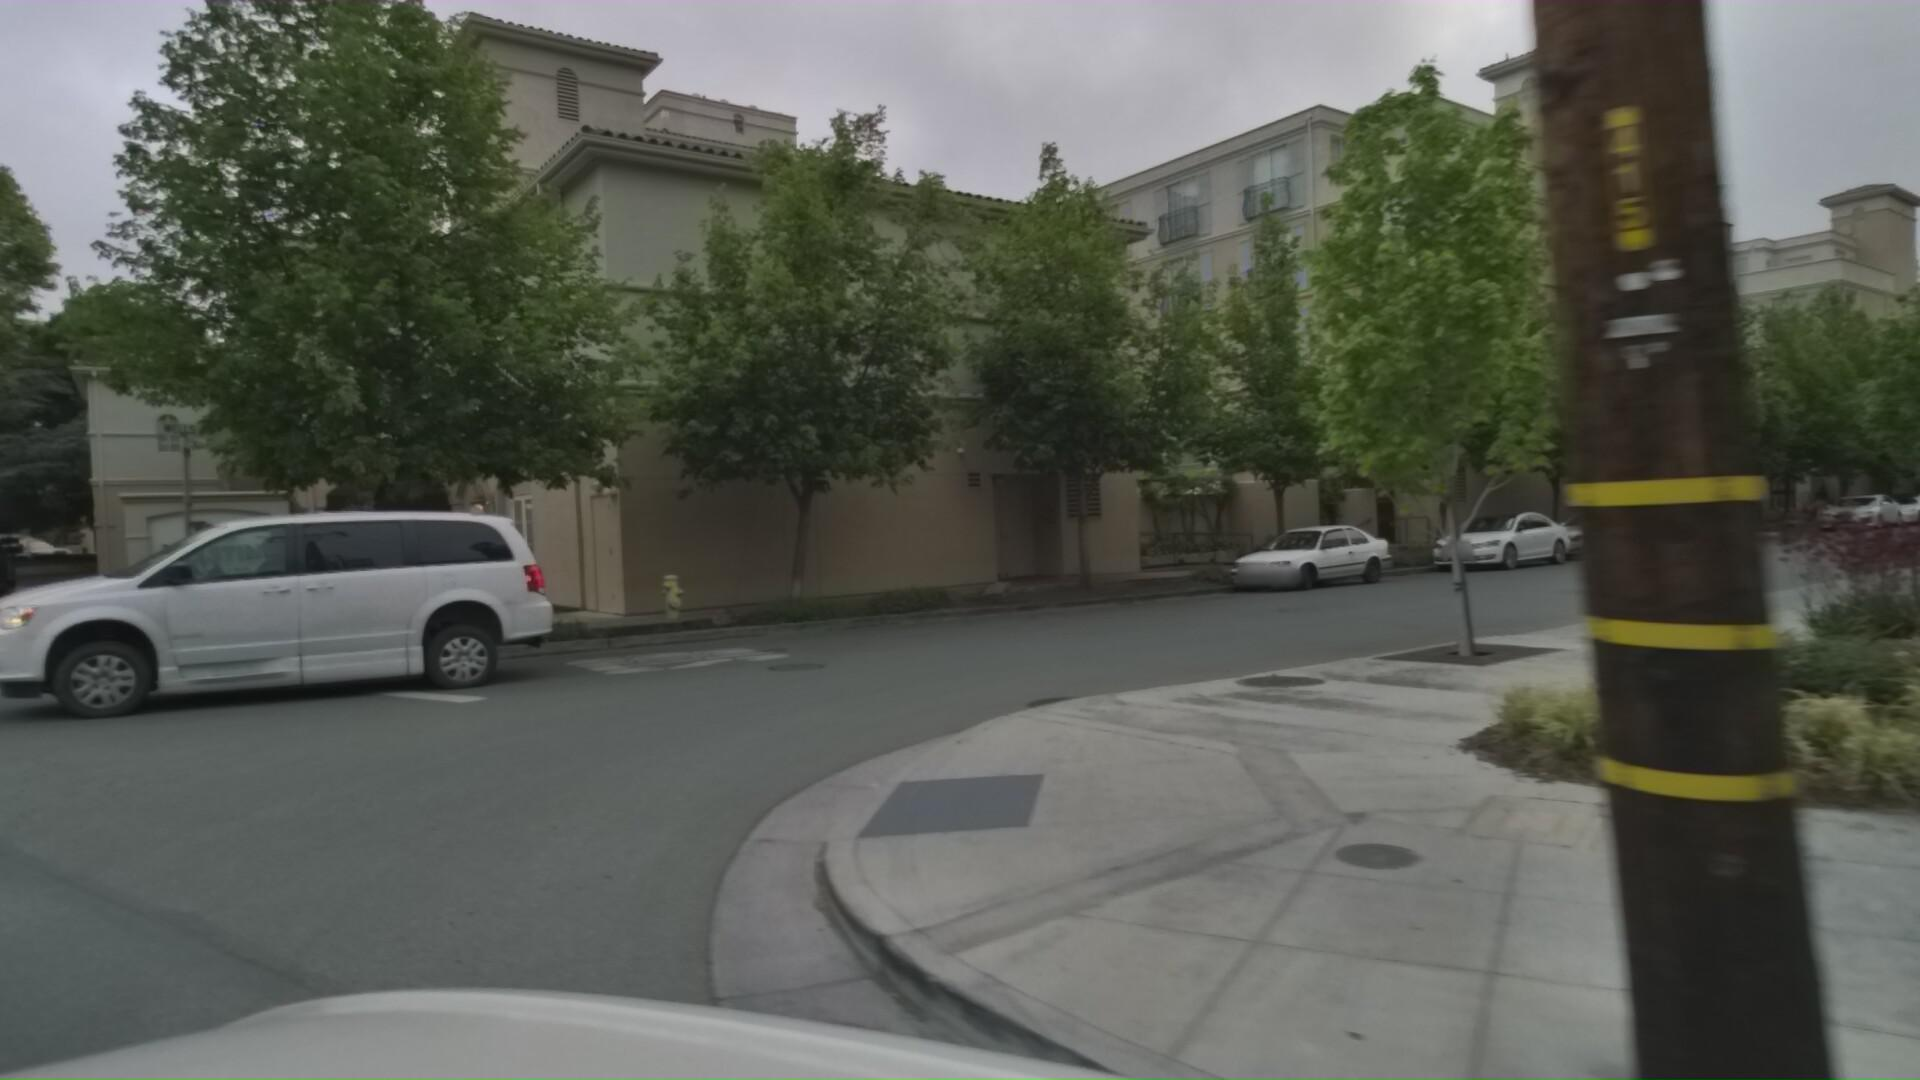car: (0, 491, 605, 749), (1236, 510, 1422, 591), (1429, 495, 1600, 571), (1544, 493, 1692, 553), (1818, 477, 1917, 521), (0, 527, 41, 613), (0, 531, 90, 562), (1876, 480, 1920, 516)
